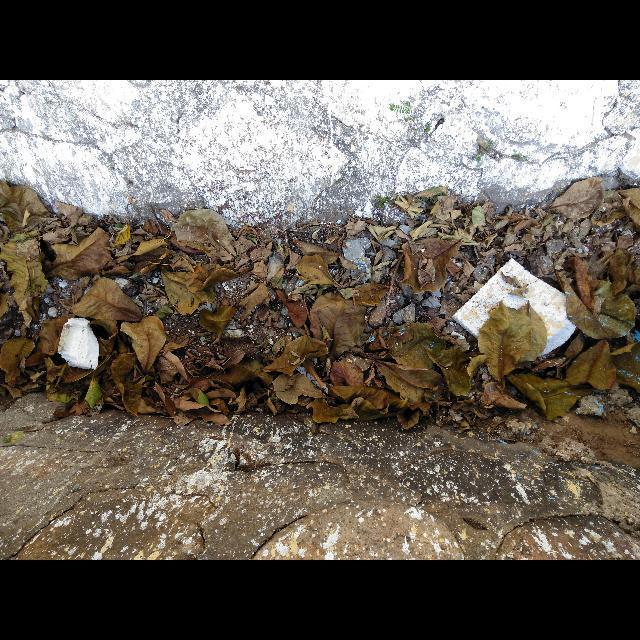Plastic: (452, 258, 576, 356), (58, 317, 98, 369)
